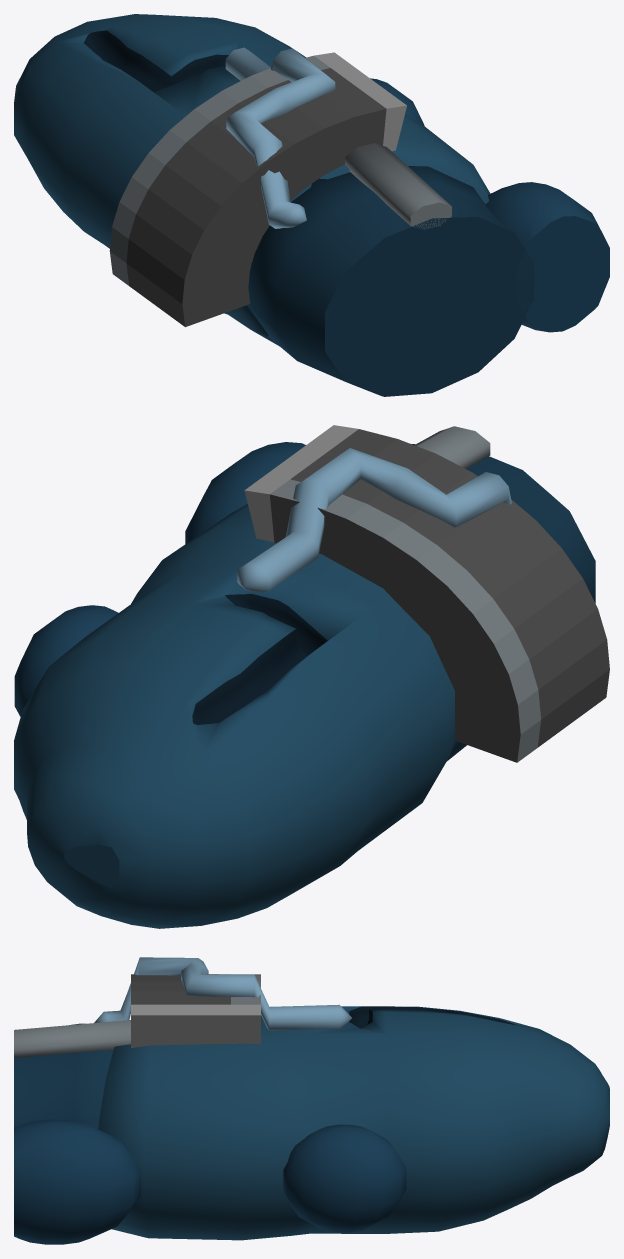
File: newsh-caret-16.glb
3 renders of one model, top to bottom at view 1: azimuth 30°, elevation 25°; view 2: azimuth 150°, elevation 25°; view 3: azimuth 270°, elevation 25°, orthographic. The views are drawn at different scales.
Visible parts, largest first — view 1: newsh-caret-16; view 2: newsh-caret-16; view 3: newsh-caret-16.
Boxes of the visible parts, x1,y1,x2,y2 form: newsh-caret-16: (14,14,609,396); newsh-caret-16: (14,425,609,928); newsh-caret-16: (14,957,609,1244).
Bounding box in the file's own units: 1.49 × 1.04 × 2.33.
